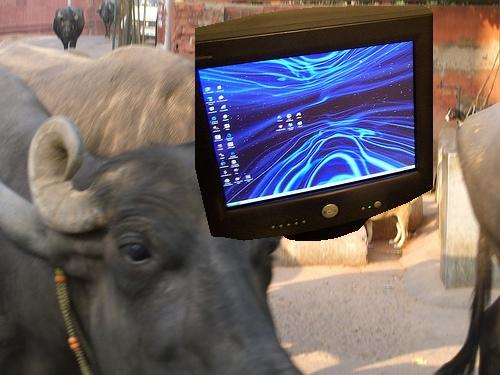tampered: (196, 7, 433, 241)
